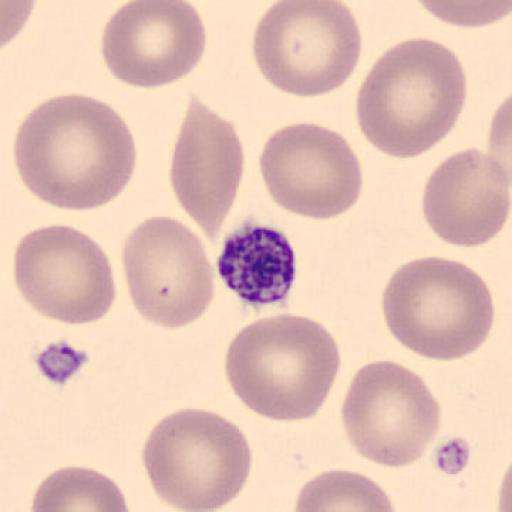Platelet: (216, 221, 300, 311), (30, 336, 92, 388)
RBC: (12, 91, 139, 214), (354, 36, 468, 160), (223, 311, 343, 424), (380, 254, 495, 362), (140, 405, 254, 512), (339, 358, 442, 470), (120, 214, 216, 332), (251, 0, 363, 99), (169, 100, 246, 244), (13, 222, 118, 327), (258, 120, 365, 221), (99, 0, 207, 90), (422, 146, 511, 249), (28, 464, 132, 512), (292, 468, 399, 512), (486, 90, 512, 198), (412, 0, 512, 28), (1, 0, 37, 51), (495, 451, 512, 512), (496, 464, 512, 512)
